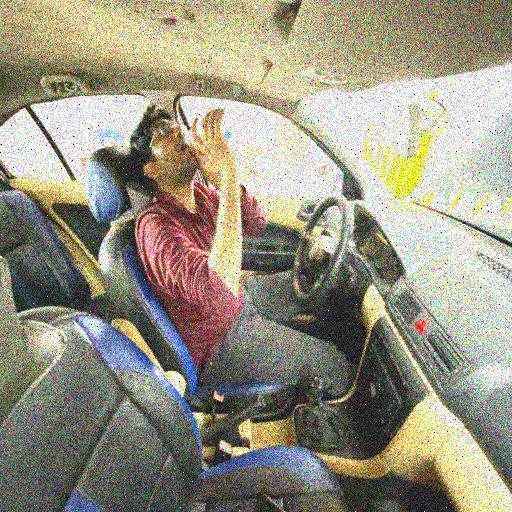Drinking: (123, 101, 298, 332)
